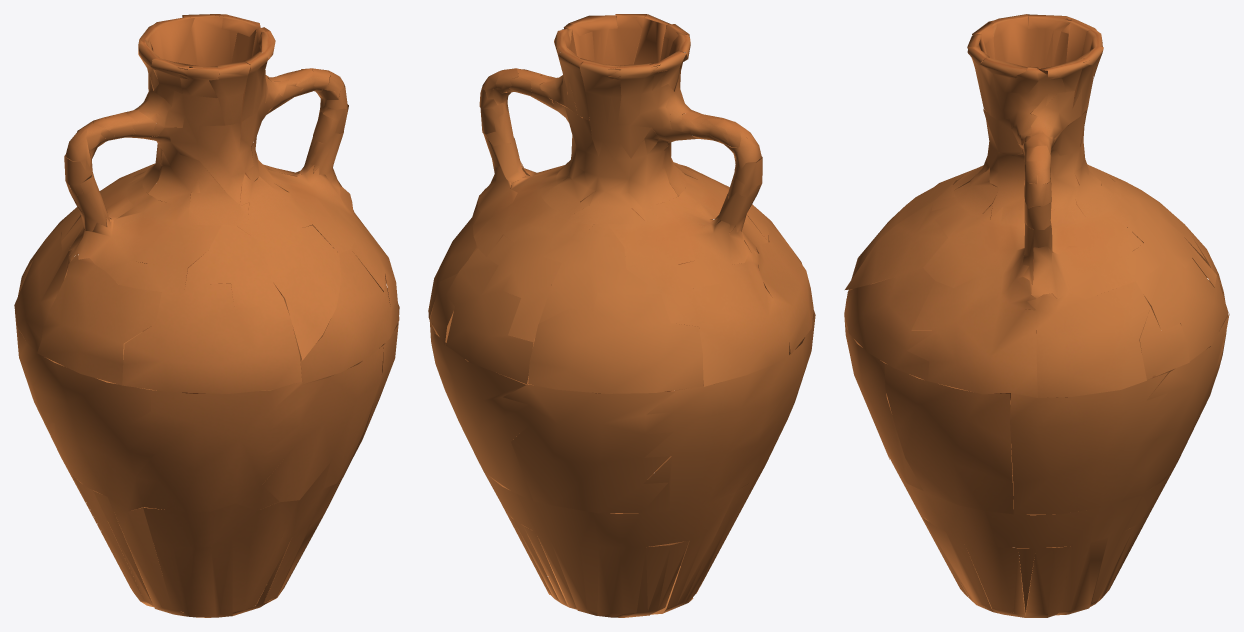
The model's file is mdl_ra4_cantaro.fbx.
The picture shows the model from 3 angles, left to right: view 1: azimuth 30°, elevation 25°; view 2: azimuth 150°, elevation 25°; view 3: azimuth 270°, elevation 25°; orthographic projection.
Visible parts, largest first — view 1: SM_cantaro; view 2: SM_cantaro; view 3: SM_cantaro.
Boxes of the visible parts, <box> form: SM_cantaro: <box>14,14,399,617</box>; SM_cantaro: <box>428,14,815,617</box>; SM_cantaro: <box>844,14,1229,617</box>.
Size of the model in its own units: 0.2598 by 0.4006 by 0.2572.
